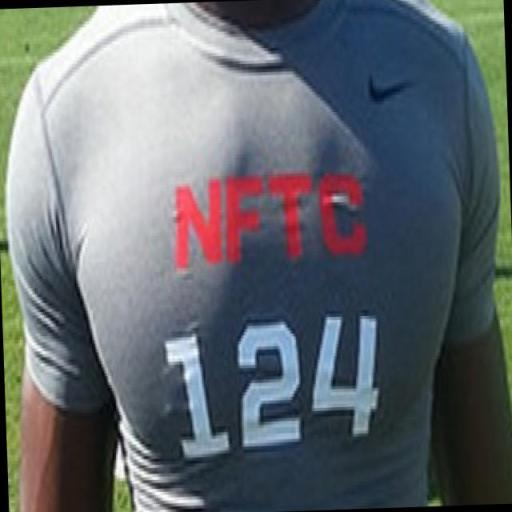Nike: (362, 64, 420, 113)
